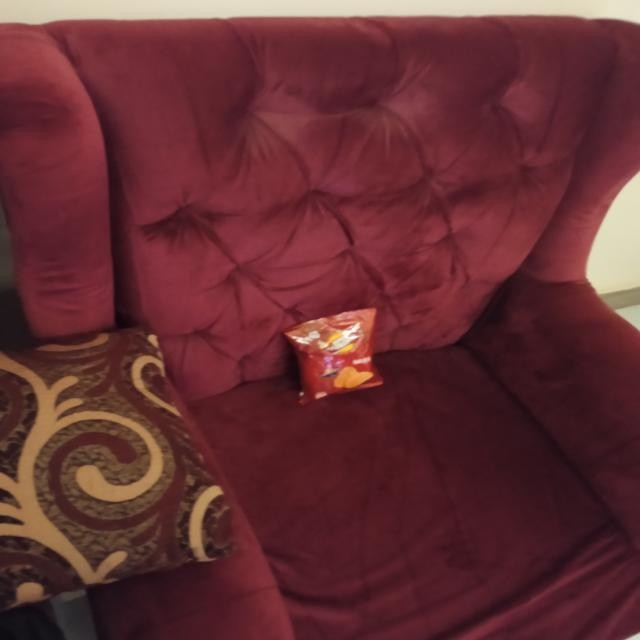Plastic: (292, 312, 378, 400)
